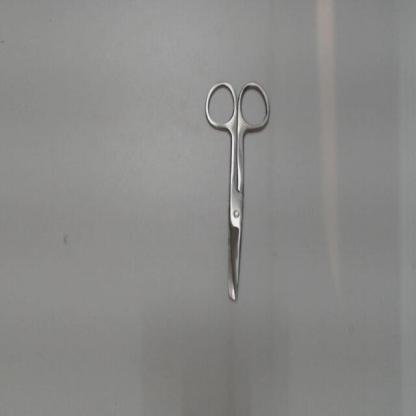Dressing Scissors: (196, 69, 278, 315)
